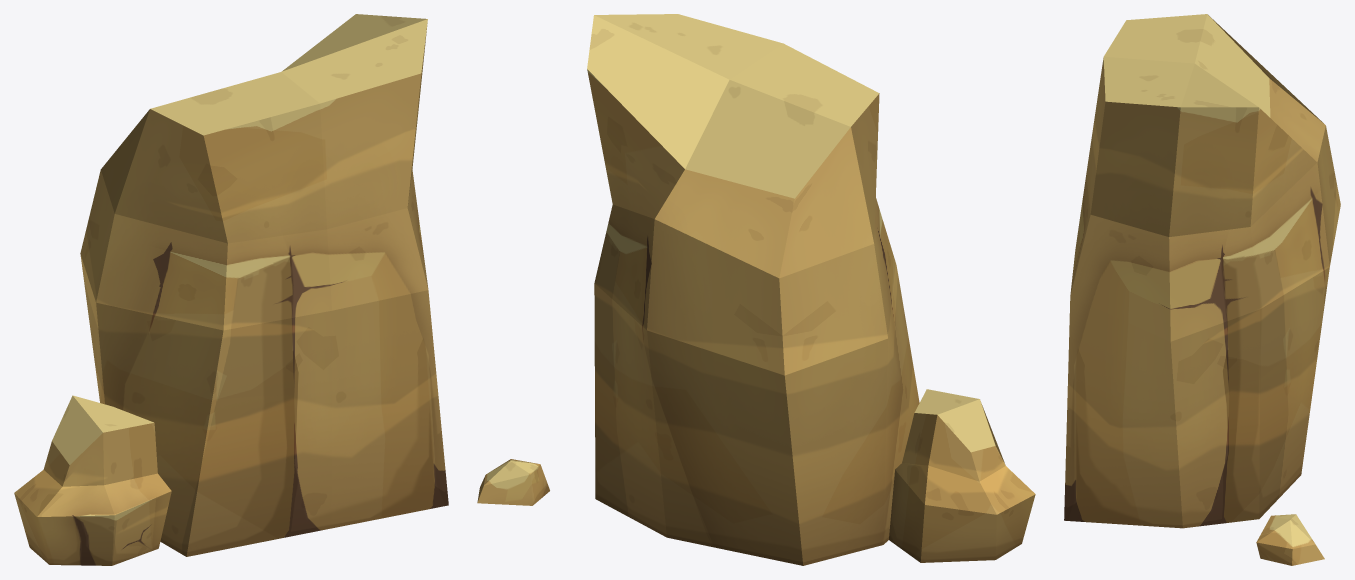
File: F_W_O_rock_009.fbx
The picture shows the model from 3 angles, left to right: view 1: azimuth 30°, elevation 25°; view 2: azimuth 150°, elevation 25°; view 3: azimuth 270°, elevation 25°; orthographic projection. The views are drawn at different scales.
Parts seen in each view (by area): view 1: F_W_O_rock_009; view 2: F_W_O_rock_009; view 3: F_W_O_rock_009.
Part boxes in pixels (bbox=[...]): F_W_O_rock_009: bbox=[14, 14, 448, 565]; F_W_O_rock_009: bbox=[477, 14, 1035, 565]; F_W_O_rock_009: bbox=[1064, 14, 1340, 565].
Bounding box in the file's own units: 9.49 × 8.44 × 4.9.
